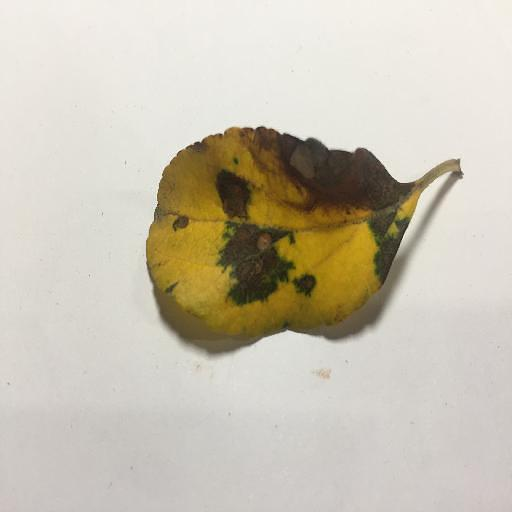Brown_Spot: (274, 141, 392, 198), (227, 235, 281, 282), (221, 175, 252, 216), (295, 270, 315, 291), (375, 218, 392, 231), (172, 216, 188, 227)
